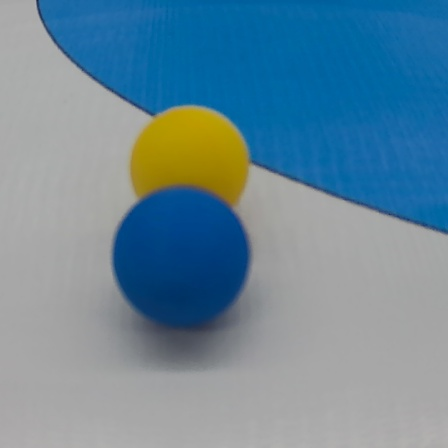blue: (115, 185, 252, 329)
blue_base: (30, 3, 448, 236)
yellow: (127, 104, 256, 216)
